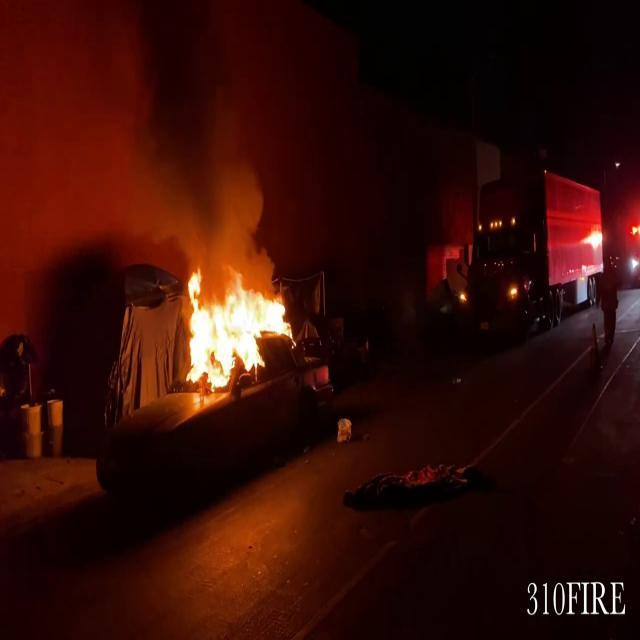Fire: (176, 261, 298, 396)
Smoke: (0, 0, 267, 272)
